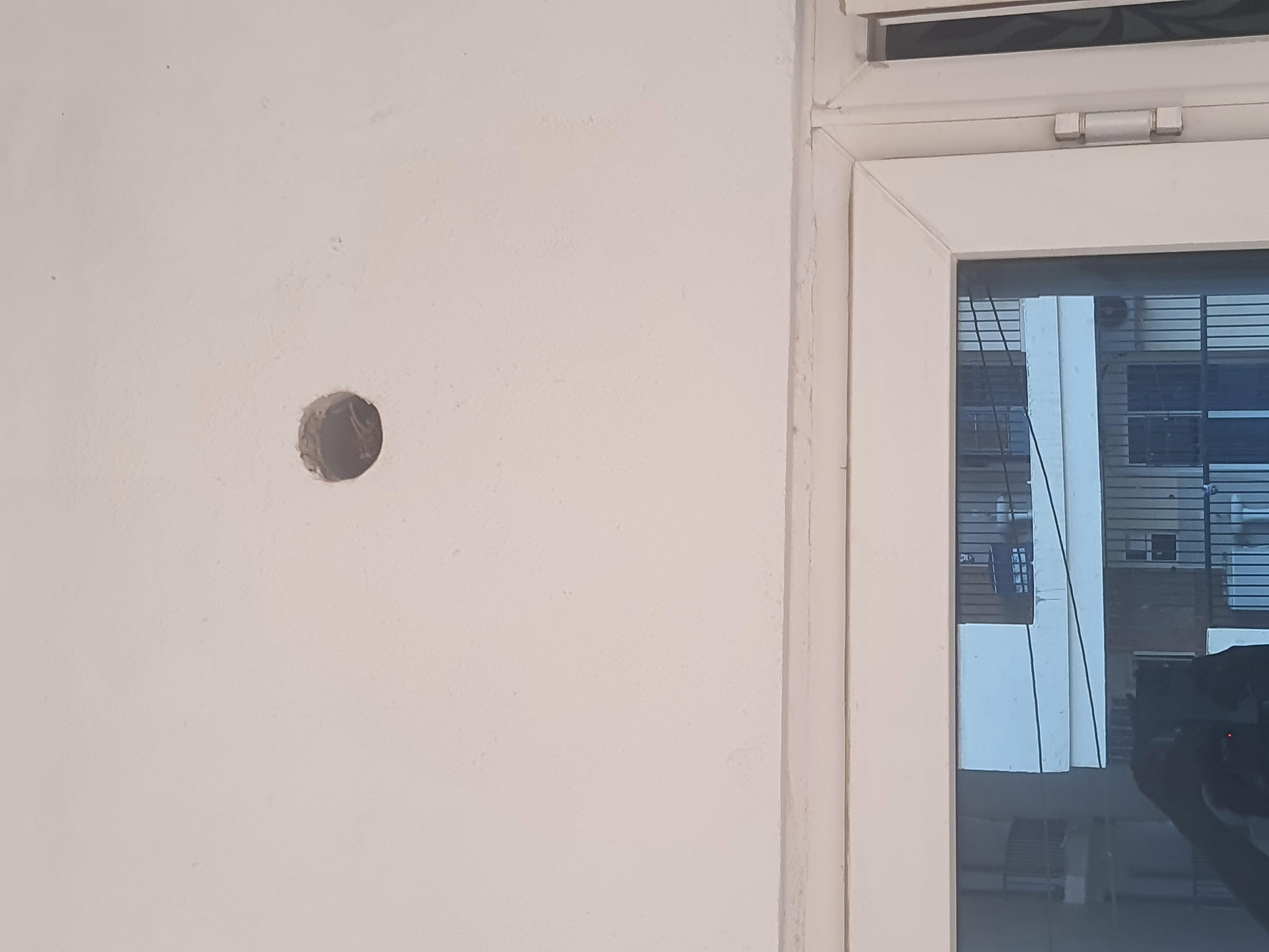cockroach: (659, 254, 734, 287)
